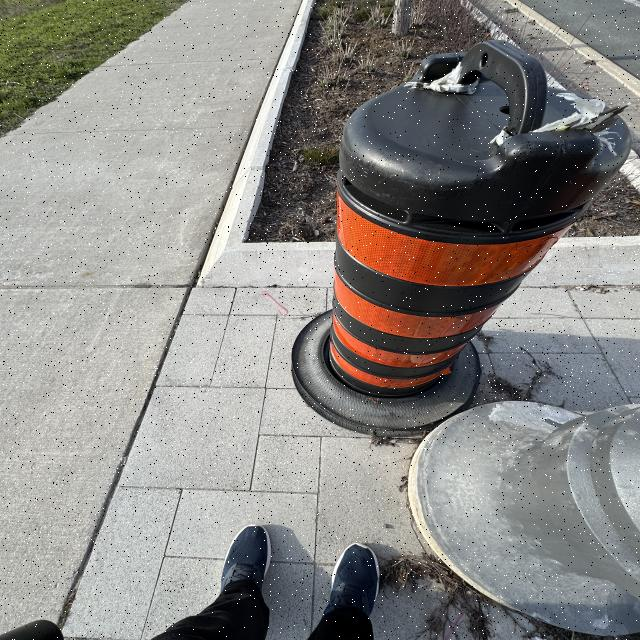Teraffic Barrel: (293, 42, 630, 434), (408, 402, 640, 637)
